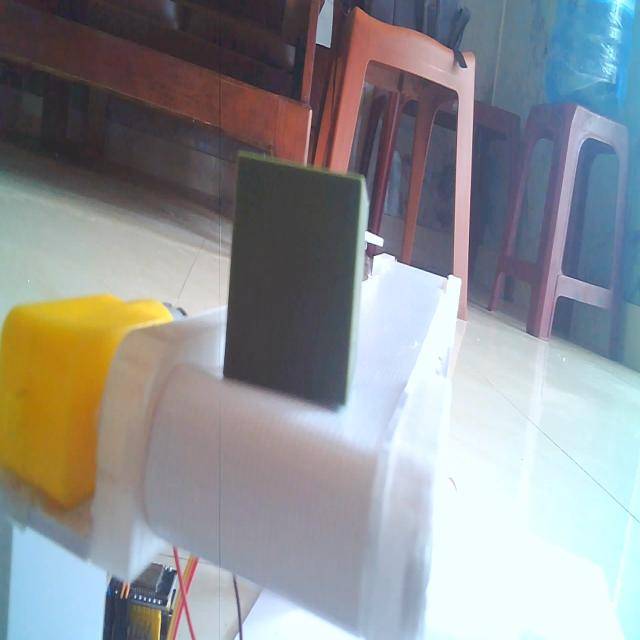green: (222, 141, 373, 420)
